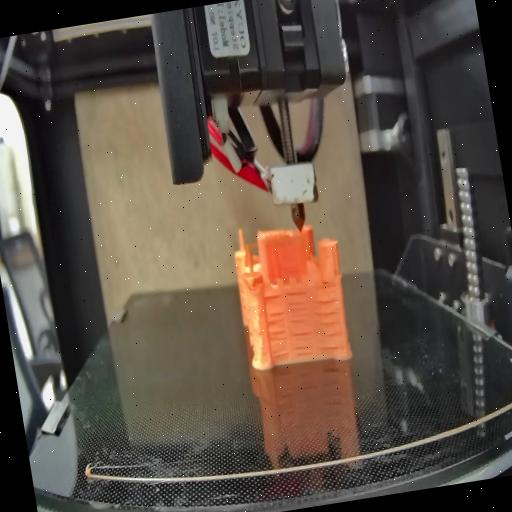cracks: (262, 288, 292, 360), (311, 296, 345, 352), (283, 282, 311, 325), (290, 324, 316, 358), (320, 276, 330, 288)
